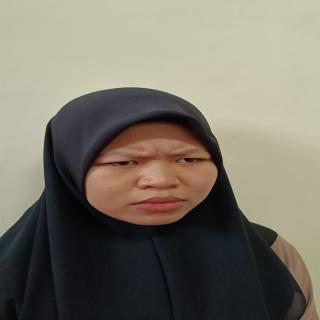Marah: (73, 108, 236, 234)
